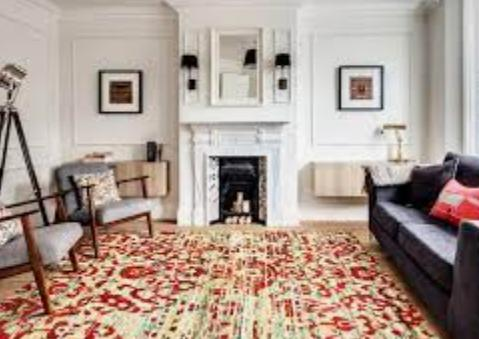carpet: (0, 229, 440, 339)
